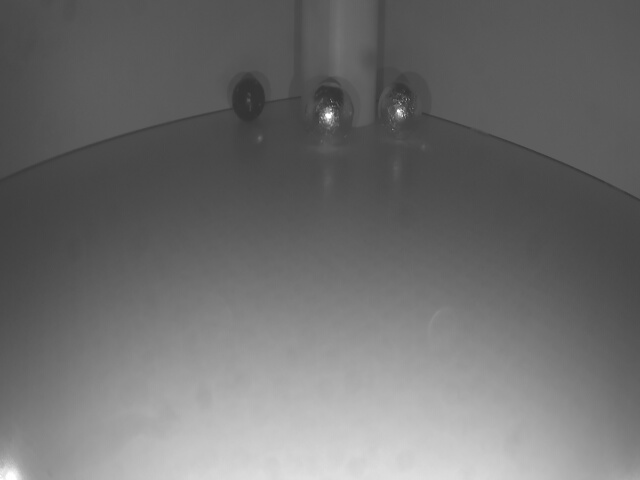Dead: (231, 75, 266, 122)
Live: (307, 82, 355, 147), (377, 81, 422, 134)
